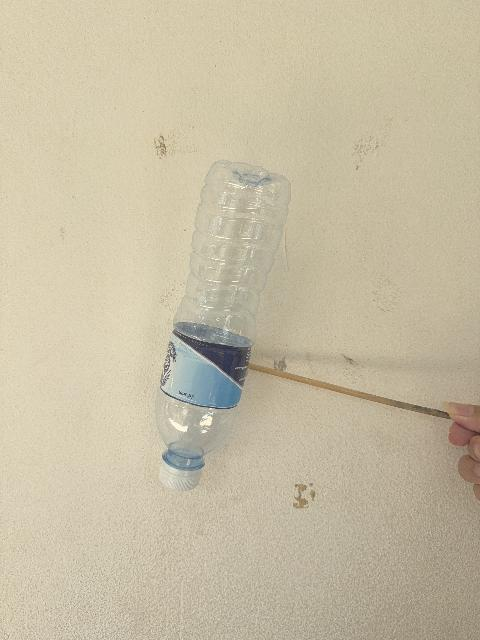bottle: (156, 161, 290, 490)
